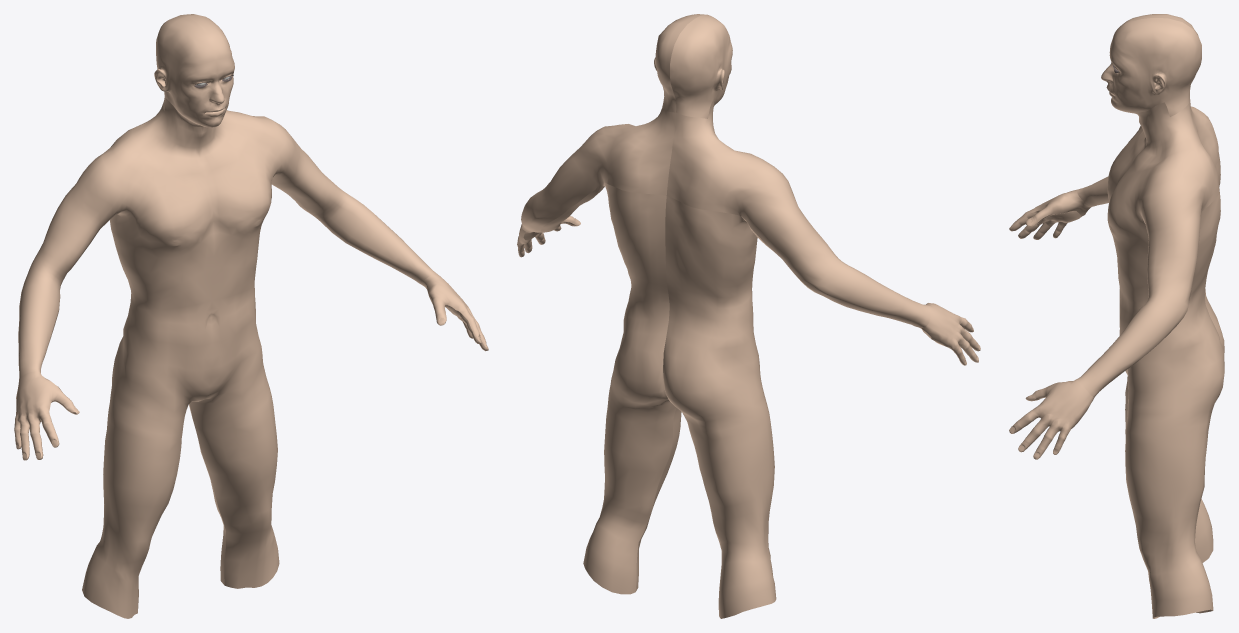
Rendered from body_travel_suit_shoes.glb.
The picture shows the model from 3 angles, left to right: view 1: azimuth 30°, elevation 25°; view 2: azimuth 150°, elevation 25°; view 3: azimuth 270°, elevation 25°; orthographic projection. The views are drawn at different scales.
Parts seen in each view (by area): view 1: Body; view 2: Body; view 3: Body.
Boxes of the visible parts, left/top/right/bottom form: Body: left=14, top=14, right=488, bottom=618; Body: left=517, top=14, right=980, bottom=618; Body: left=1009, top=14, right=1224, bottom=618.
Size of the model in its own units: 1.15 by 1.39 by 0.4725.
